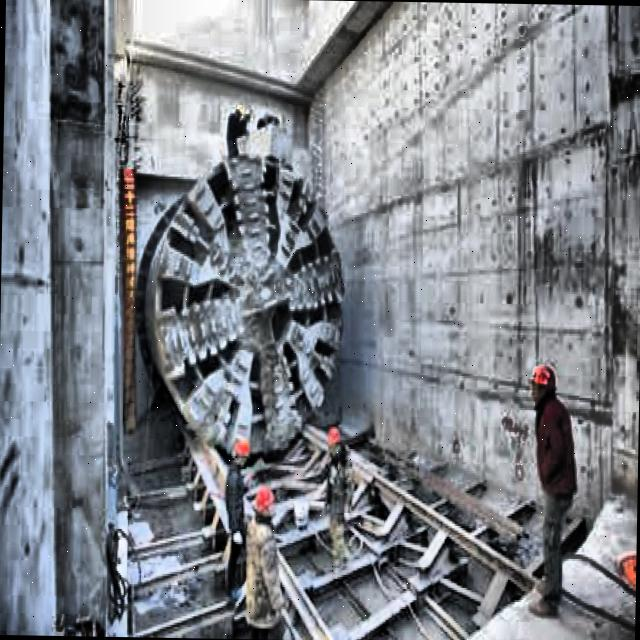helmet: (528, 352, 562, 412), (230, 433, 256, 469), (252, 484, 278, 518), (325, 424, 342, 449)
